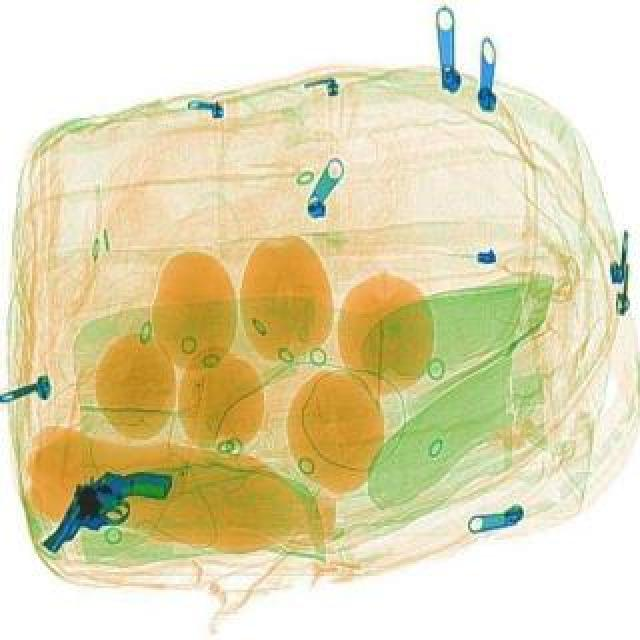gun: (20, 440, 176, 564)
